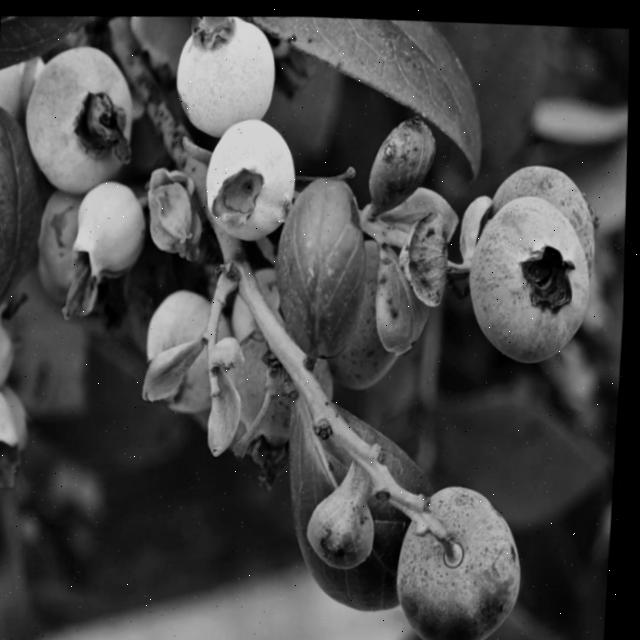RipeBlueBerry: (461, 184, 604, 365), (396, 473, 537, 640)
Semi-RipeBlueBerry: (22, 25, 143, 184)
UnripeBlueBerry: (170, 9, 282, 135), (204, 105, 305, 239), (70, 174, 154, 279)
